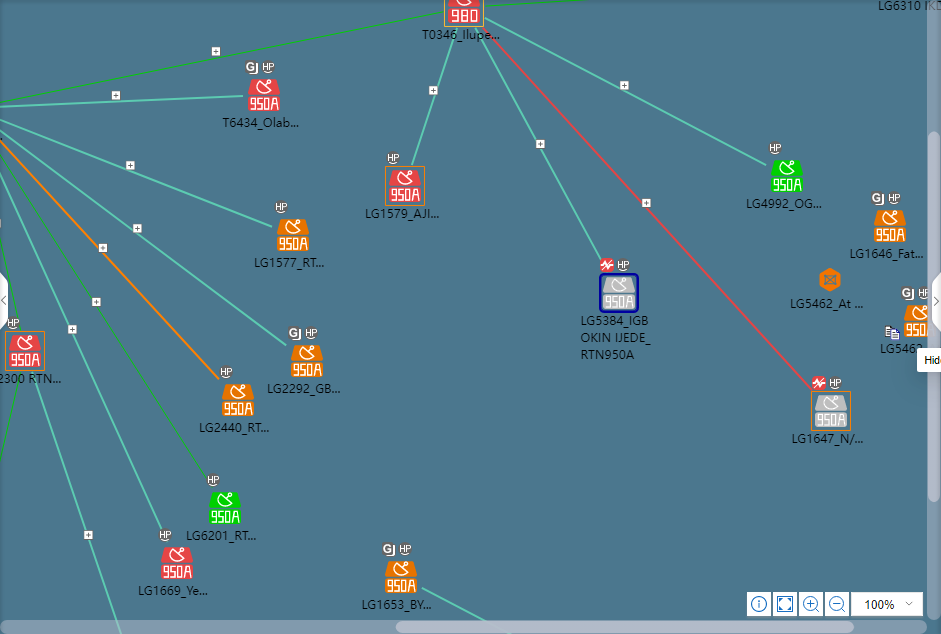Link_Blue: (0, 129, 288, 348), (0, 171, 163, 530), (484, 16, 767, 168), (0, 117, 272, 229), (474, 28, 602, 260), (29, 372, 123, 634), (410, 28, 459, 166), (0, 95, 243, 109), (421, 587, 487, 621)
Link_Green: (0, 154, 217, 490), (0, 10, 442, 104), (0, 373, 24, 466), (0, 238, 24, 331)
Link_Red: (482, 28, 811, 390)
RTN_Gray: (600, 276, 637, 311), (813, 394, 848, 430)
RTN_Green: (770, 160, 802, 192), (209, 493, 240, 525)
RTN_Orange: (277, 219, 308, 251), (222, 385, 253, 417), (874, 211, 905, 242), (291, 346, 322, 377), (385, 563, 416, 594), (904, 306, 927, 337)
RTN_Red: (8, 334, 42, 368), (388, 169, 422, 203), (444, 0, 483, 26), (248, 79, 279, 111), (161, 548, 192, 580)
